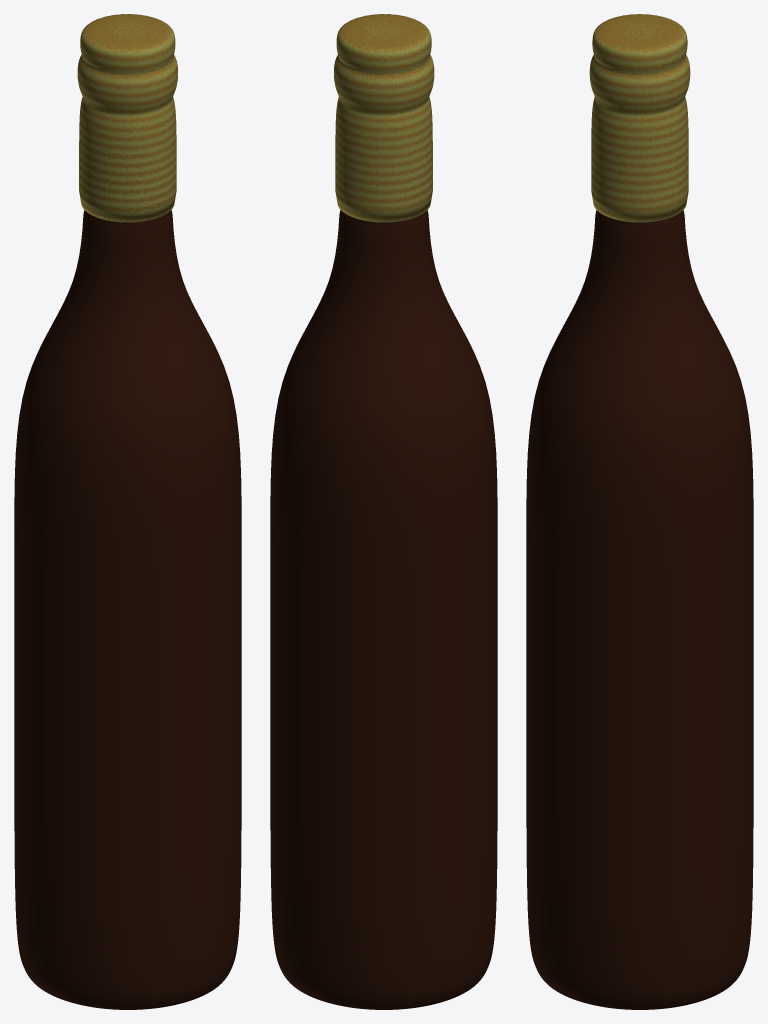
The model's file is camsise_kahve.fbx.
3 views of the same model, side by side, from view 1: azimuth 30°, elevation 25°; view 2: azimuth 150°, elevation 25°; view 3: azimuth 270°, elevation 25° (orthographic).
Visible parts, largest first — view 1: Cylinder.002; view 2: Cylinder.002; view 3: Cylinder.002.
Boxes of the visible parts, <box> form: Cylinder.002: <box>14,14,241,1009</box>; Cylinder.002: <box>270,14,497,1009</box>; Cylinder.002: <box>526,14,753,1009</box>.
Bounding box in the file's own units: 114 × 114 × 519.
Materials: 2 (1 with a texture image).
